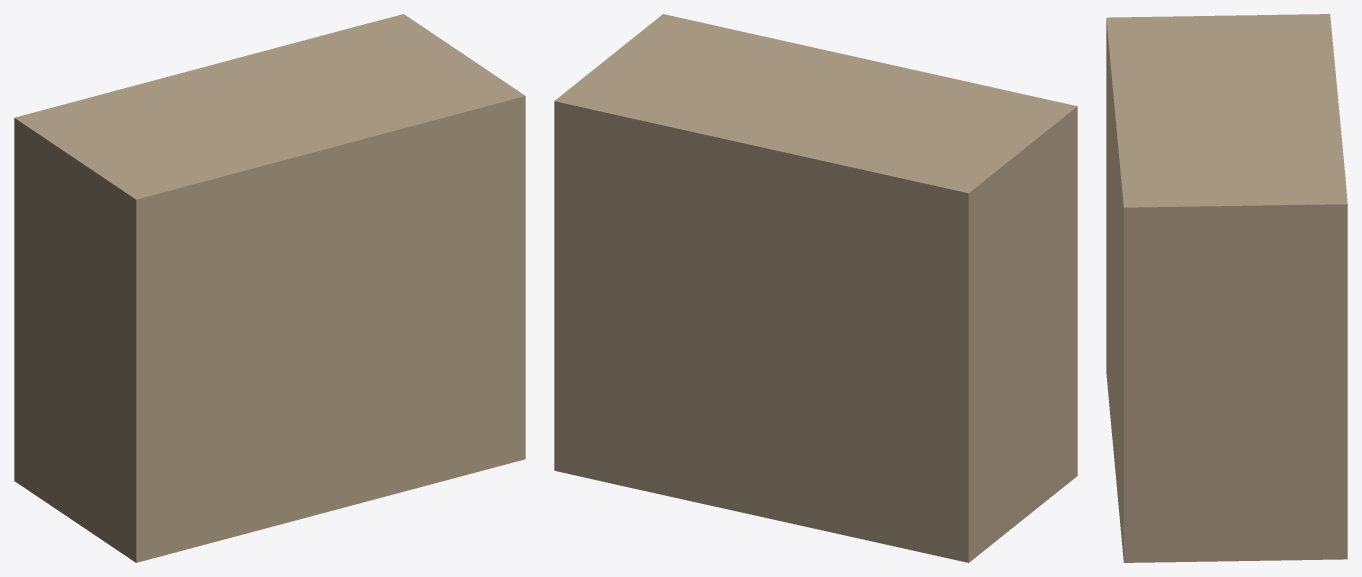
File: bld_106415175.dae
The picture shows the model from 3 angles, left to right: view 1: azimuth 30°, elevation 25°; view 2: azimuth 150°, elevation 25°; view 3: azimuth 270°, elevation 25°; orthographic projection. The views are drawn at different scales.
Visible parts, largest first — view 1: bld_106415175; view 2: bld_106415175; view 3: bld_106415175.
Part boxes in pixels (x1,y1,x2,y2): bld_106415175: (14,14,525,562); bld_106415175: (554,14,1077,562); bld_106415175: (1106,14,1347,562).
Bounding box in the file's own units: 9.35 × 4.92 × 8.
